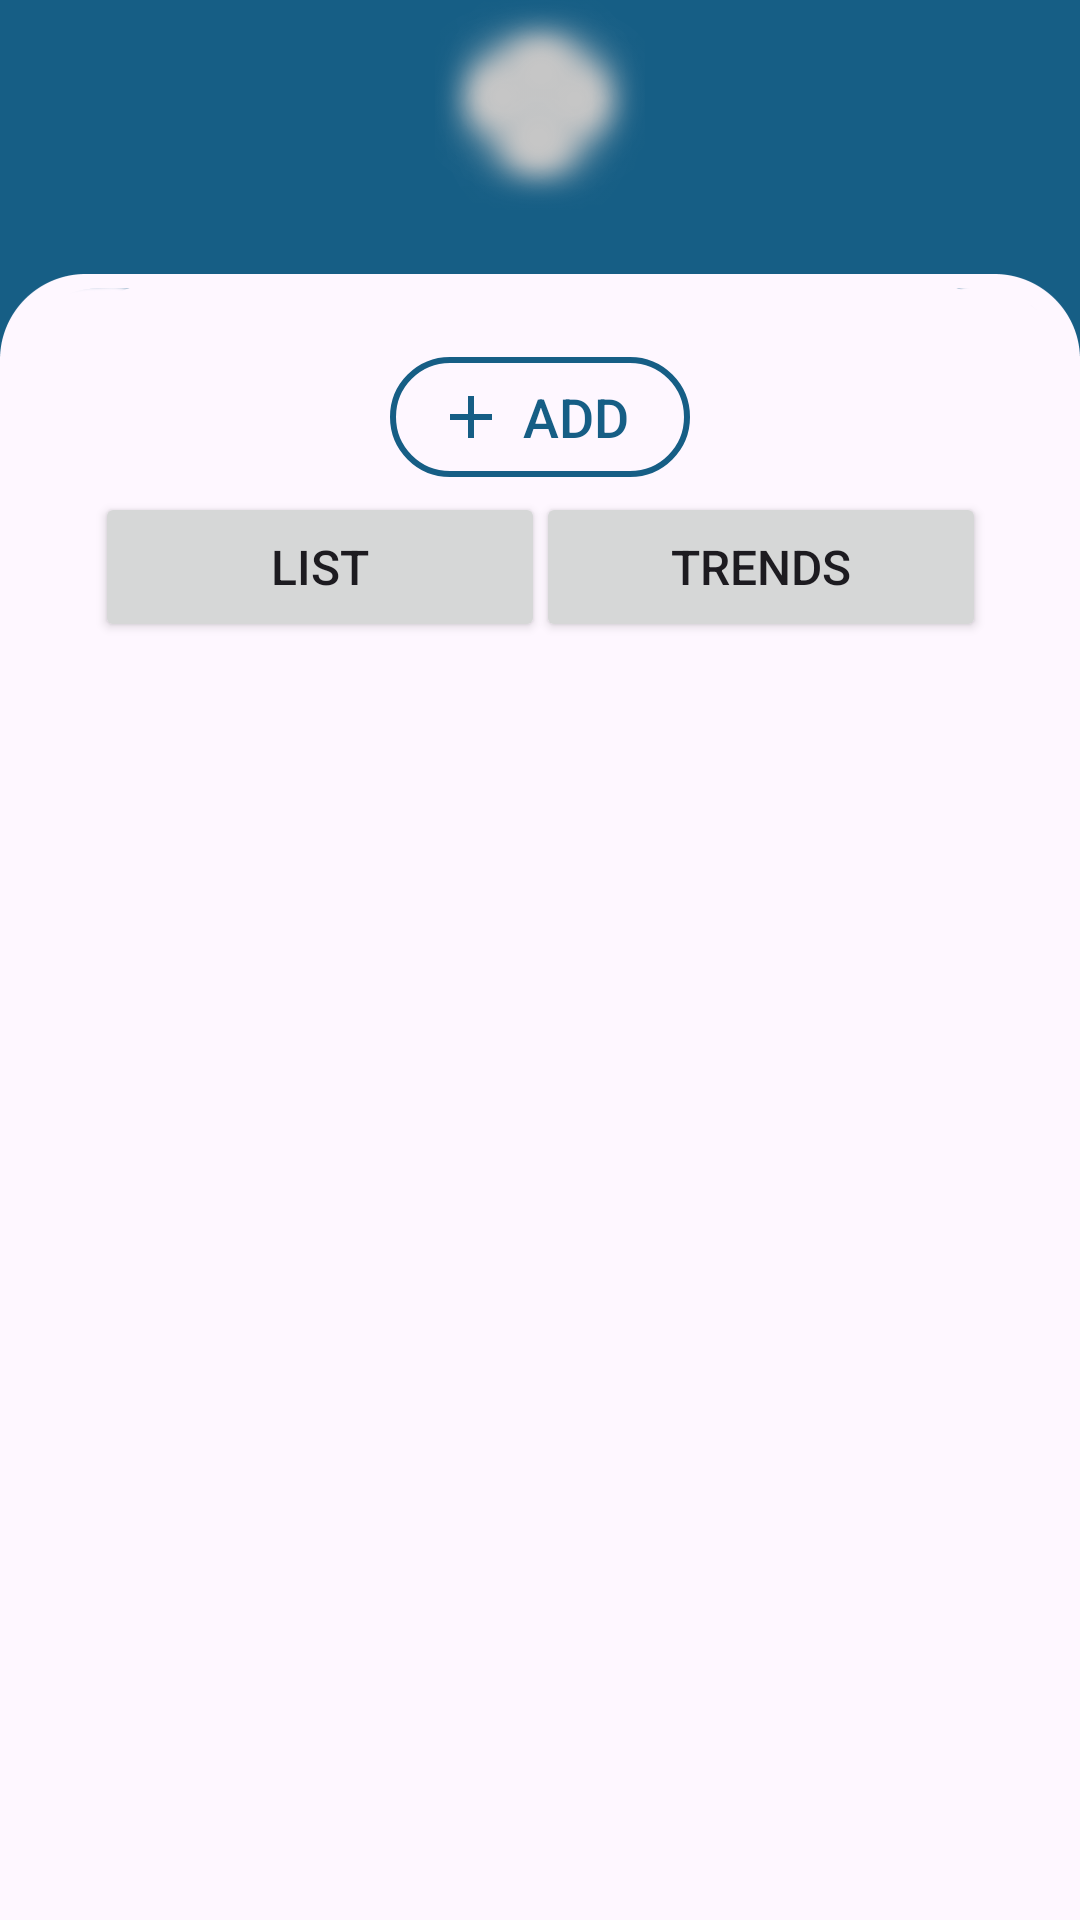

Icons on this 1080 x 1920 Android screen, each with the point to tap as (x=x, y=y):
glow: (x=539, y=104)
